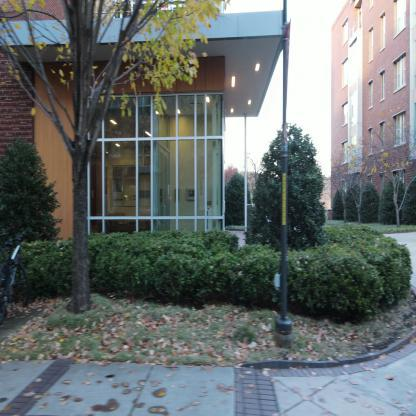Wolf Ridge: (0, 7, 415, 295)
